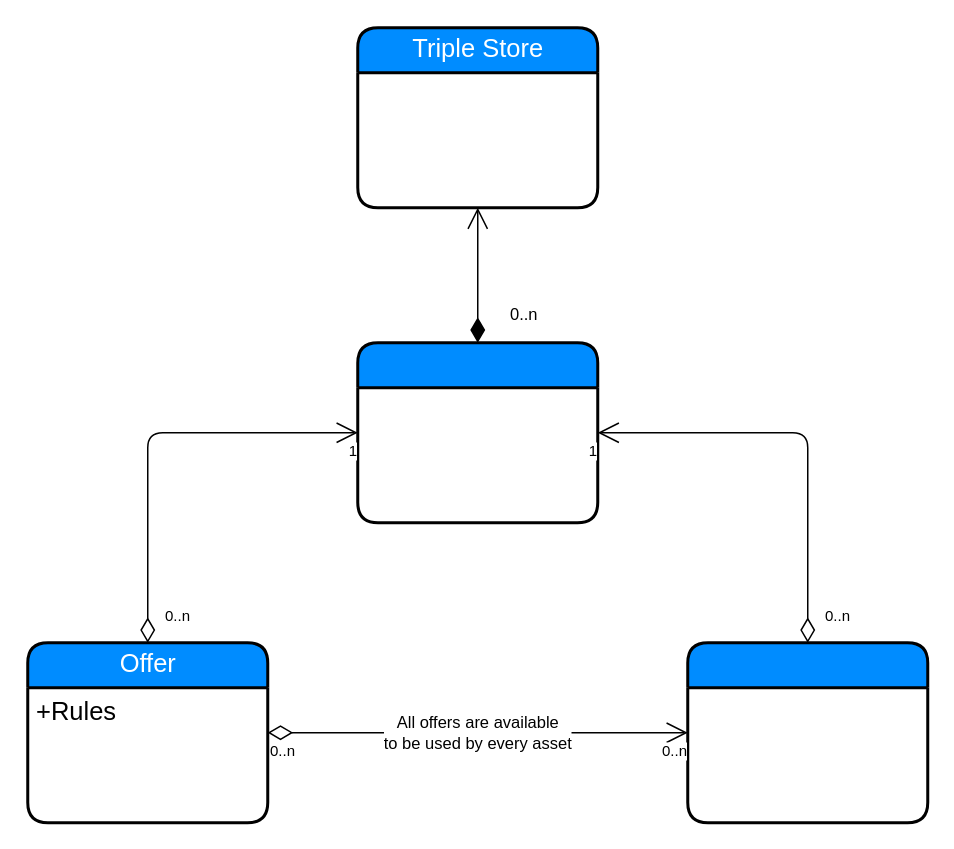
Image size: 954x849. Some labels were removed from this diagram. The shapes that lost their labels are listed below. From the top down, each one's box as (x1, y1, x2, y2) in pixels, then its label:
(356, 340, 598, 524): Repository
(686, 640, 928, 824): Asset
